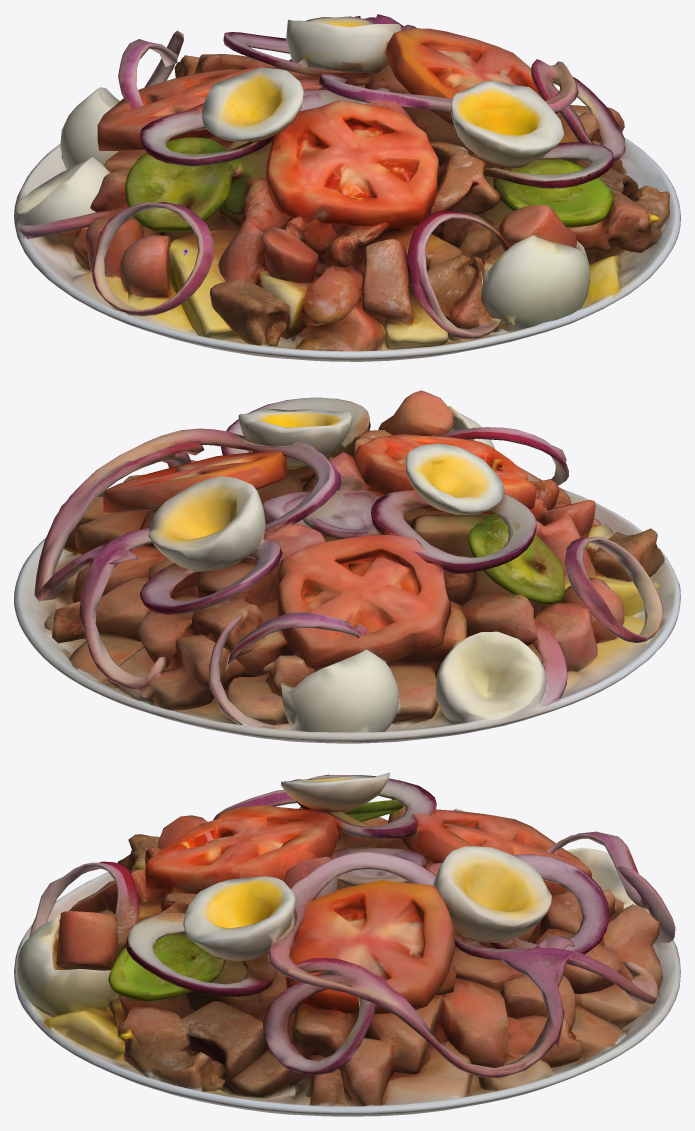
The model's file is Pique2Model.glb.
3 renders of one model, top to bottom at view 1: azimuth 30°, elevation 25°; view 2: azimuth 150°, elevation 25°; view 3: azimuth 270°, elevation 25°, orthographic.
Parts seen in each view (by area): view 1: tripo_part_0, tripo_part_13, tripo_part_2, tripo_part_1, tripo_part_10, tripo_part_12, tripo_part_14, tripo_part_8, tripo_part_26, tripo_part_29, tripo_part_28, tripo_part_32 (+23 smaller); view 2: tripo_part_0, tripo_part_5, tripo_part_1, tripo_part_11, tripo_part_7, tripo_part_16, tripo_part_8, tripo_part_29, tripo_part_13, tripo_part_9, tripo_part_2, tripo_part_26 (+30 smaller); view 3: tripo_part_0, tripo_part_8, tripo_part_13, tripo_part_3, tripo_part_11, tripo_part_7, tripo_part_14, tripo_part_1, tripo_part_27, tripo_part_17, tripo_part_5, tripo_part_12 (+25 smaller).
Part boxes in pixels (x1,y1,x2,y2): tripo_part_0: [14, 112, 680, 361]; tripo_part_13: [265, 100, 442, 228]; tripo_part_2: [222, 141, 509, 341]; tripo_part_1: [269, 67, 575, 260]; tripo_part_10: [119, 212, 315, 340]; tripo_part_12: [481, 235, 590, 332]; tripo_part_14: [451, 80, 564, 168]; tripo_part_8: [385, 28, 539, 124]; tripo_part_26: [125, 137, 236, 231]; tripo_part_29: [201, 67, 303, 148]; tripo_part_28: [357, 238, 447, 349]; tripo_part_32: [295, 264, 388, 351]; tripo_part_0: [14, 465, 680, 743]; tripo_part_5: [276, 527, 450, 672]; tripo_part_1: [180, 428, 415, 603]; tripo_part_11: [34, 430, 196, 696]; tripo_part_7: [148, 476, 265, 571]; tripo_part_16: [281, 649, 398, 732]; tripo_part_8: [103, 451, 288, 512]; tripo_part_29: [405, 443, 504, 514]; tripo_part_13: [353, 433, 535, 514]; tripo_part_9: [371, 489, 536, 574]; tripo_part_2: [403, 427, 568, 557]; tripo_part_26: [468, 518, 564, 604]; tripo_part_0: [14, 808, 680, 1116]; tripo_part_8: [285, 880, 454, 1014]; tripo_part_13: [145, 805, 340, 893]; tripo_part_3: [117, 994, 268, 1092]; tripo_part_11: [285, 930, 657, 1078]; tripo_part_7: [433, 846, 551, 943]; tripo_part_14: [183, 876, 295, 961]; tripo_part_1: [124, 847, 540, 975]; tripo_part_27: [263, 957, 404, 1075]; tripo_part_17: [339, 995, 447, 1106]; tripo_part_5: [401, 809, 591, 895]; tripo_part_12: [17, 915, 123, 1017].
Bounding box in the file's own units: 0.9796 × 0.3183 × 0.9781.
54 materials, 54 textured.
